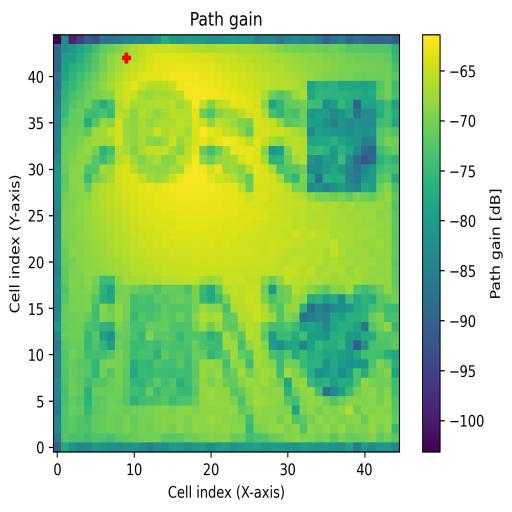Concrete: (306, 81, 376, 193)
Glass: (123, 80, 192, 185)
Metal: (284, 294, 369, 396)
Wood: (122, 285, 200, 406)
